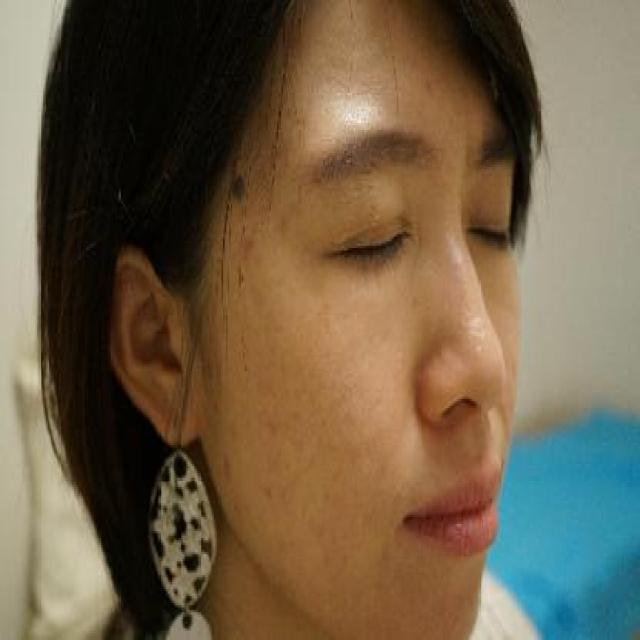dark spot: (260, 478, 295, 512), (217, 450, 240, 491), (260, 408, 288, 441), (423, 74, 437, 104)
